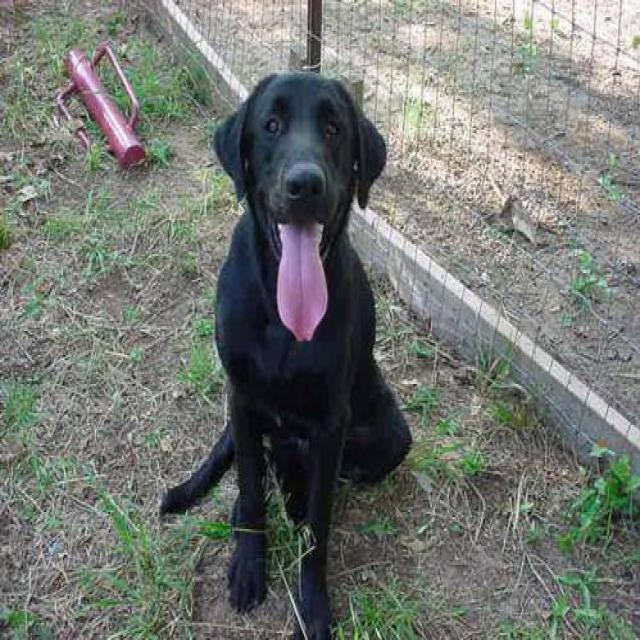dog: (158, 69, 413, 638)
